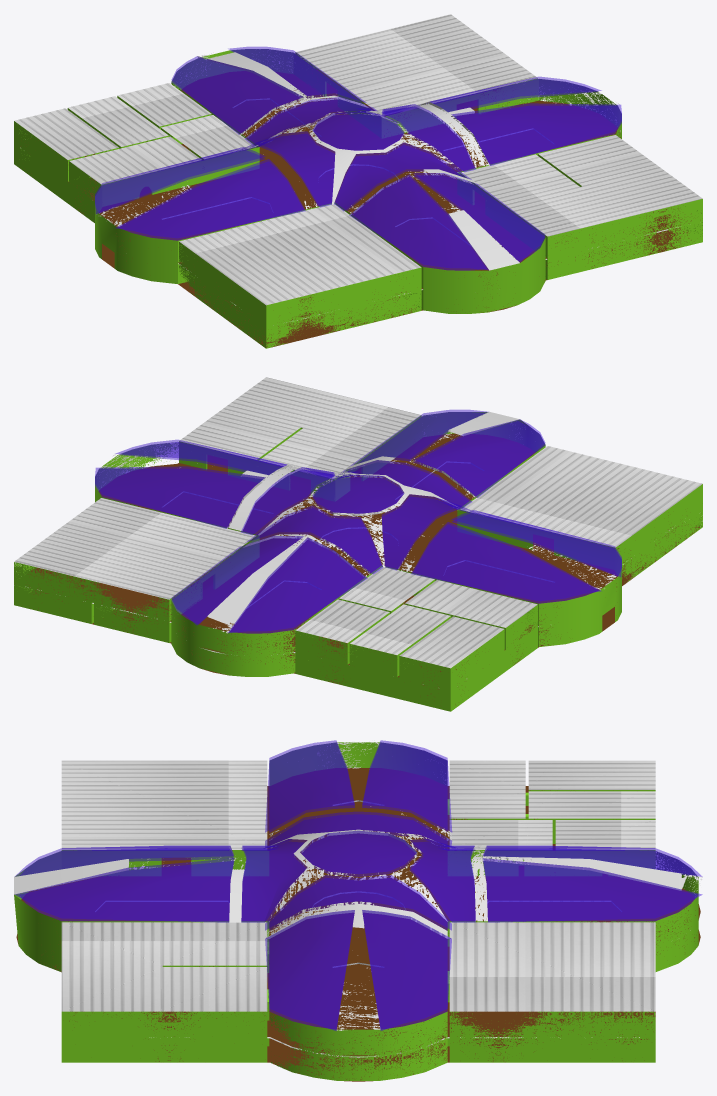
Rendered from mallEndEnd.fbx.
3 views of the same model, one above another, from view 1: azimuth 30°, elevation 25°; view 2: azimuth 150°, elevation 25°; view 3: azimuth 270°, elevation 25° (orthographic). The views are drawn at different scales.
Visible parts, largest first — view 1: building; view 2: building; view 3: building.
Boxes of the visible parts, bbox=[...] form: building: bbox=[14, 14, 702, 348]; building: bbox=[14, 377, 702, 711]; building: bbox=[14, 740, 702, 1081].
Size of the model in its own units: 116 by 18 by 116.
Materials: 5 (1 with a texture image).
